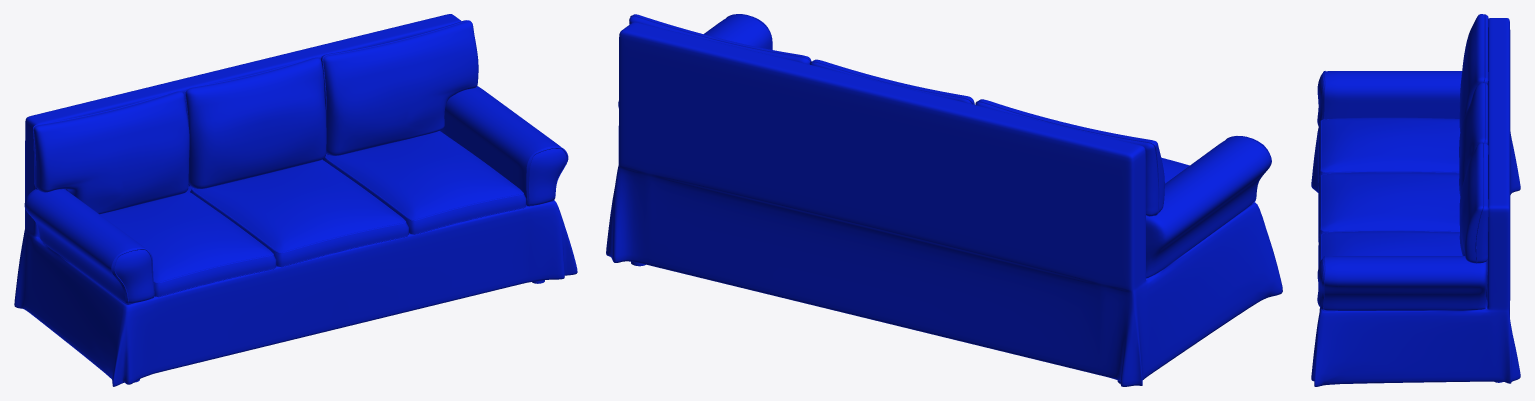
The model's file is IKEA-Ektorp_Sofa_Dark_Blue-3D.DAE.
3 renders of one model, left to right at view 1: azimuth 30°, elevation 25°; view 2: azimuth 150°, elevation 25°; view 3: azimuth 270°, elevation 25°, orthographic. The views are drawn at different scales.
Visible parts, largest first — view 1: Cylinder02, Rectangle06, Rectangle05, Rectangle03, Box07, Box06, Box08; view 2: Cylinder02, Rectangle05, Rectangle06, Rectangle03; view 3: Cylinder02, Box07, Box08, Box06, Rectangle06, Rectangle05, Rectangle03.
Part boxes in pixels (x1=…): Cylinder02: x1=14, y1=14, x2=577, y2=386; Rectangle06: x1=321, y1=20, x2=478, y2=155; Rectangle05: x1=33, y1=90, x2=189, y2=214; Rectangle03: x1=185, y1=57, x2=326, y2=188; Box07: x1=190, y1=160, x2=408, y2=267; Box06: x1=323, y1=131, x2=526, y2=234; Box08: x1=100, y1=191, x2=276, y2=297; Cylinder02: x1=606, y1=14, x2=1282, y2=386; Rectangle05: x1=975, y1=99, x2=1164, y2=216; Rectangle06: x1=629, y1=14, x2=811, y2=64; Rectangle03: x1=809, y1=59, x2=974, y2=104; Cylinder02: x1=1311, y1=18, x2=1520, y2=386; Box07: x1=1318, y1=172, x2=1460, y2=241; Box08: x1=1318, y1=117, x2=1460, y2=182; Box06: x1=1318, y1=231, x2=1462, y2=287; Rectangle06: x1=1459, y1=142, x2=1488, y2=275; Rectangle05: x1=1459, y1=14, x2=1488, y2=131; Rectangle03: x1=1459, y1=82, x2=1487, y2=196.
Size of the model in its own units: 2165 by 877 by 926.
